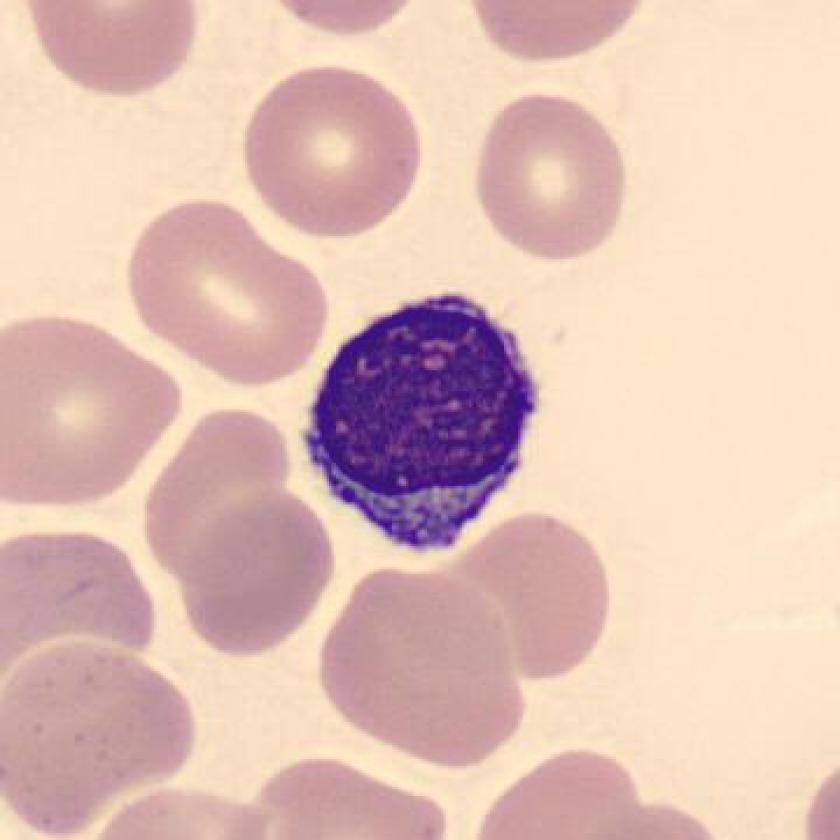lymphocyte: (291, 279, 557, 573)
